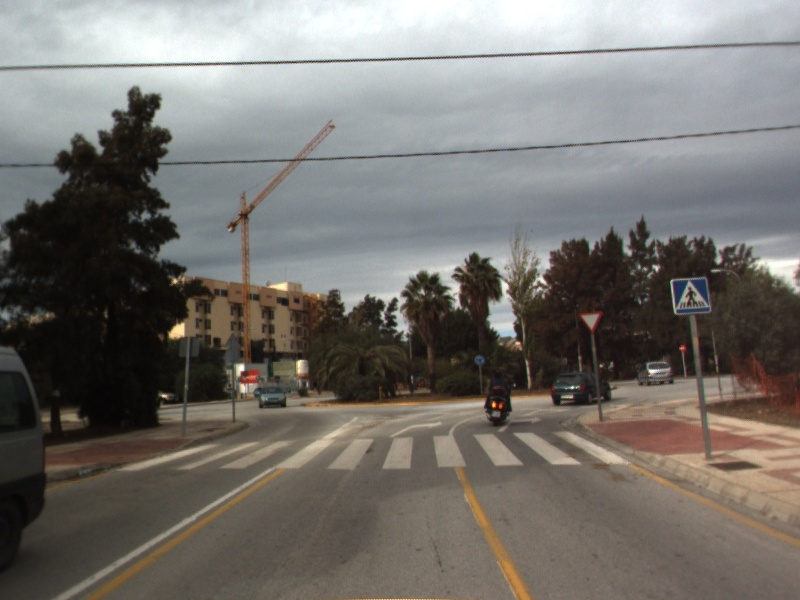RIGHT: (387, 419, 444, 439), (495, 414, 544, 434)
